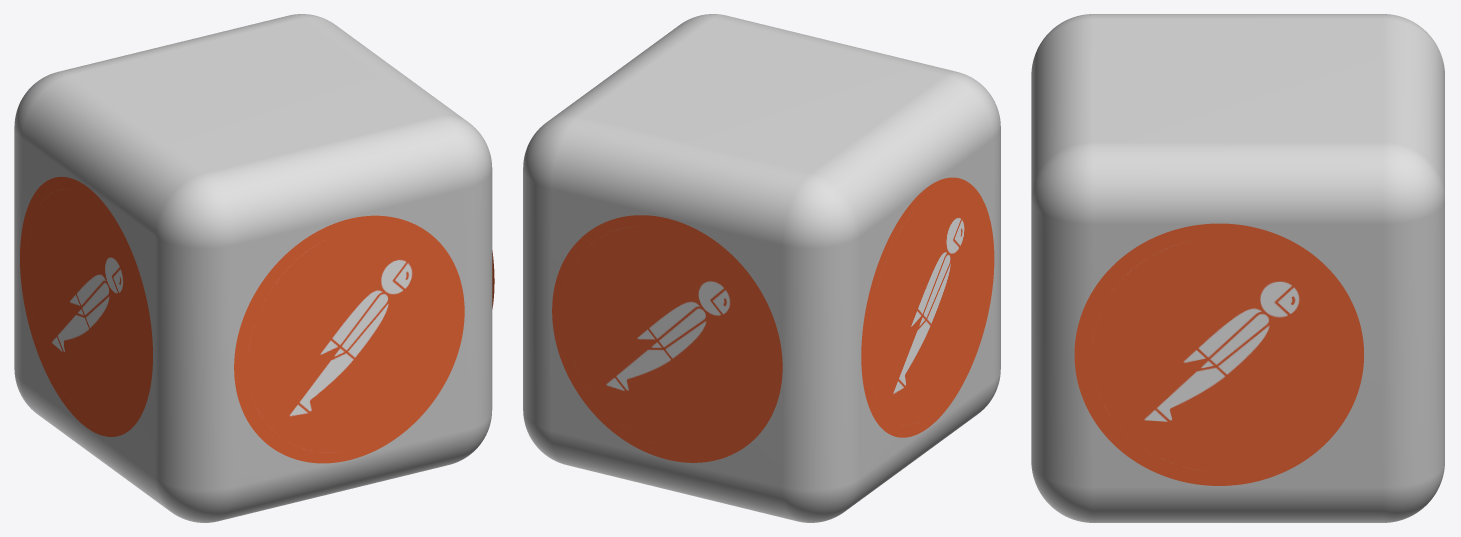
File: postman.glb
3 renders of one model, left to right at view 1: azimuth 30°, elevation 25°; view 2: azimuth 150°, elevation 25°; view 3: azimuth 270°, elevation 25°, orthographic. The views are drawn at different scales.
Visible parts, largest first — view 1: Cube.011, Plane.048, Plane.045; view 2: Cube.011, Plane.047, Plane.045; view 3: Cube.011, Plane.046.
Part boxes in pixels (left/top/right/bottom): Cube.011: left=14, top=14, right=492, bottom=522; Plane.048: left=234, top=215, right=464, bottom=463; Plane.045: left=20, top=176, right=152, bottom=436; Cube.011: left=523, top=14, right=1000, bottom=522; Plane.047: left=552, top=215, right=782, bottom=462; Plane.045: left=861, top=177, right=994, bottom=437; Cube.011: left=1031, top=14, right=1444, bottom=522; Plane.046: left=1074, top=223, right=1363, bottom=485.
Size of the model in its own units: 2.02 by 2 by 2.02.
Materials: 5 (4 with a texture image).
